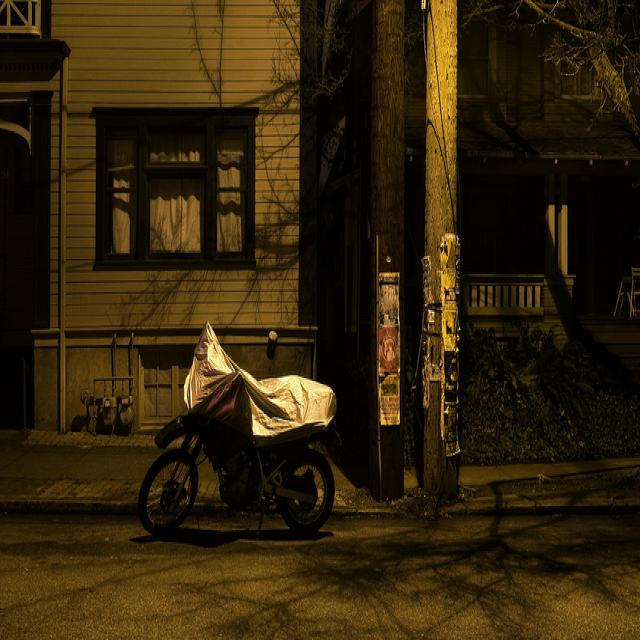motor: (136, 318, 337, 533)
